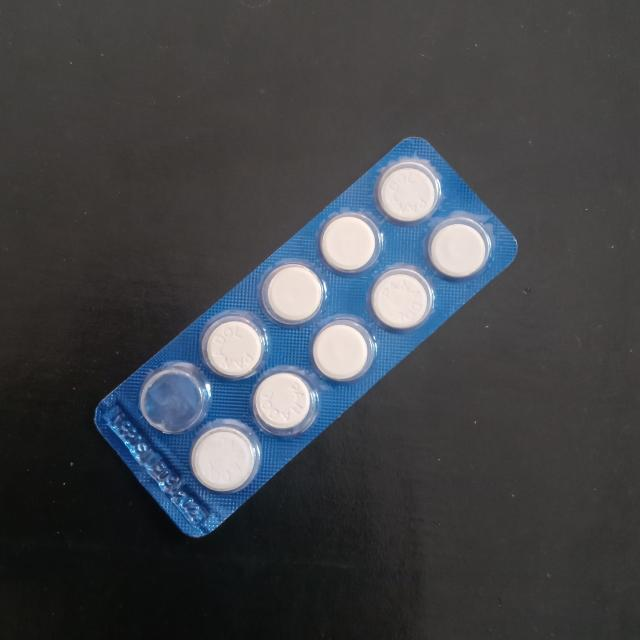defect: (141, 367, 205, 435)
